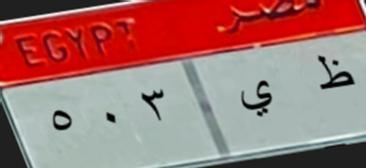0: (99, 100, 124, 133)
3: (138, 85, 175, 128)
5: (43, 104, 85, 141)
Thaa: (314, 48, 358, 103)
yaa: (240, 74, 281, 122)
